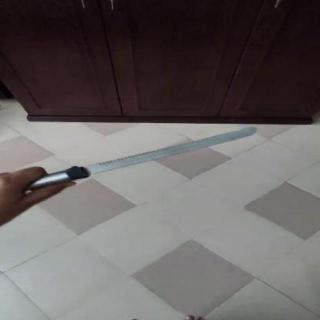knife: (56, 115, 284, 182)
